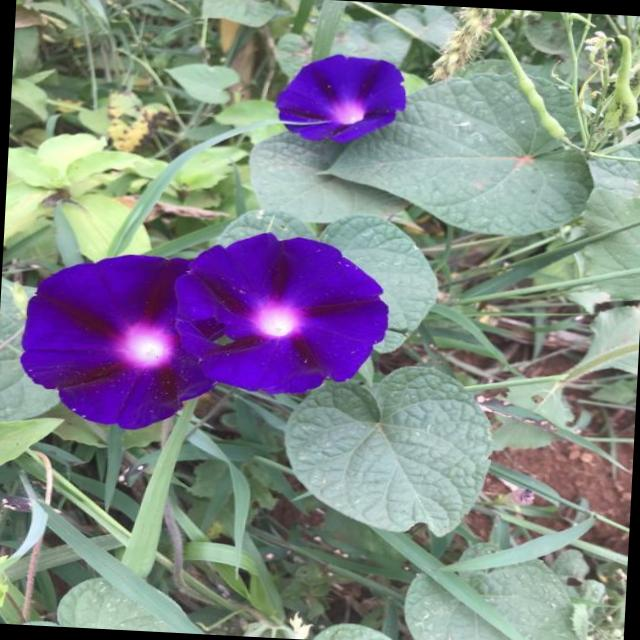ipomoea: (14, 217, 396, 445), (12, 245, 226, 437), (165, 225, 395, 402), (269, 48, 412, 152)
